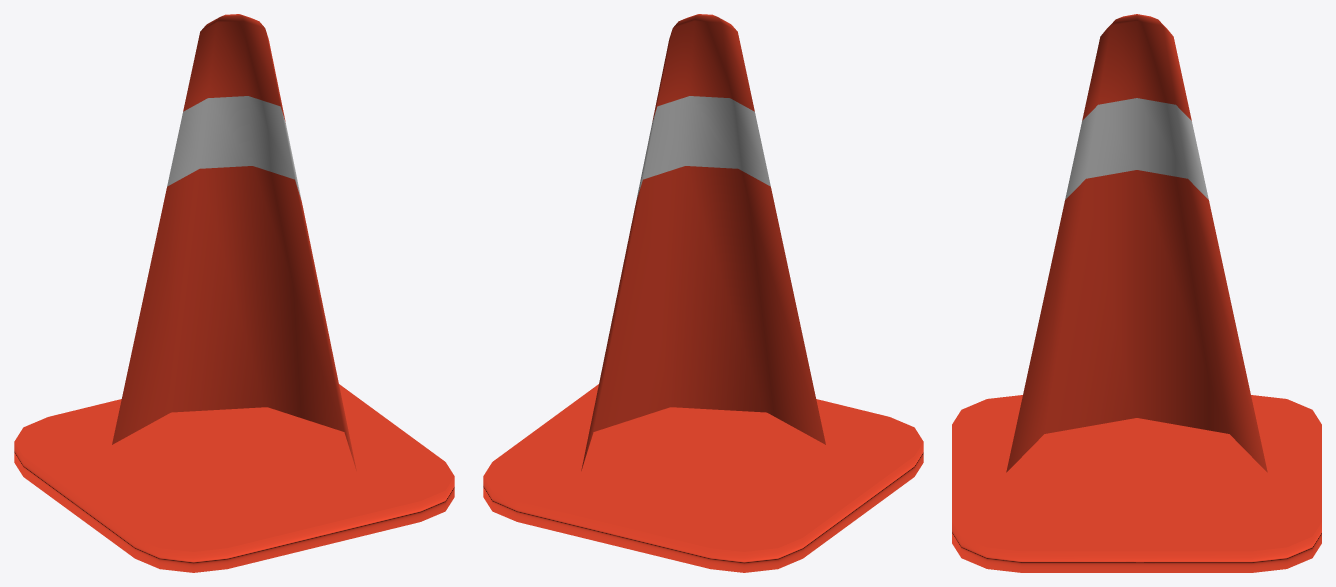
The model's file is ConstructionCone_01.glb.
3 views of the same model, side by side, from view 1: azimuth 30°, elevation 25°; view 2: azimuth 150°, elevation 25°; view 3: azimuth 270°, elevation 25° (orthographic). The views are drawn at different scales.
Parts seen in each view (by area): view 1: ConstructionCone_01; view 2: ConstructionCone_01; view 3: ConstructionCone_01.
Part boxes in pixels (left/top/right/bottom): ConstructionCone_01: left=14, top=14, right=454, bottom=572; ConstructionCone_01: left=483, top=14, right=923, bottom=572; ConstructionCone_01: left=952, top=14, right=1321, bottom=572.
Size of what is drawn, in the model's own units: 0.939 by 1.32 by 0.939.
1 material, 1 textured.
